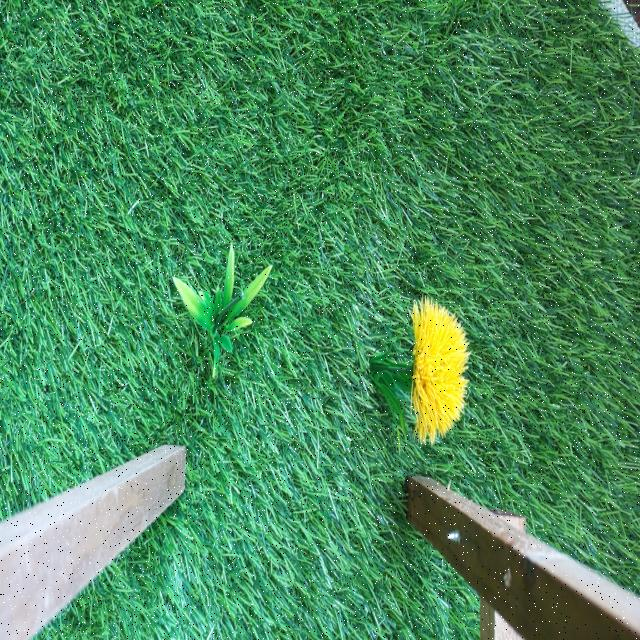base: (174, 244, 270, 364), (370, 344, 410, 440)
flower: (411, 297, 468, 442)
